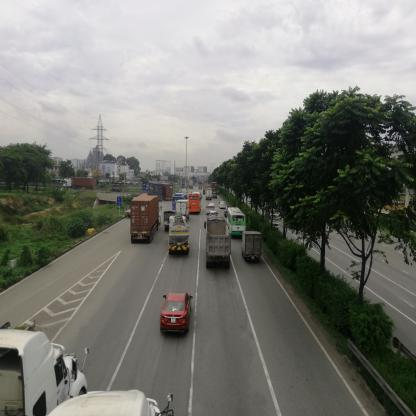bus: (228, 212, 247, 232), (190, 194, 202, 215)
car: (159, 293, 193, 338), (207, 205, 215, 216), (221, 203, 228, 208)
container: (2, 328, 88, 416), (132, 194, 159, 245), (64, 178, 98, 192), (148, 184, 162, 199)
truck: (170, 215, 189, 256), (243, 233, 265, 260), (112, 186, 123, 194)
